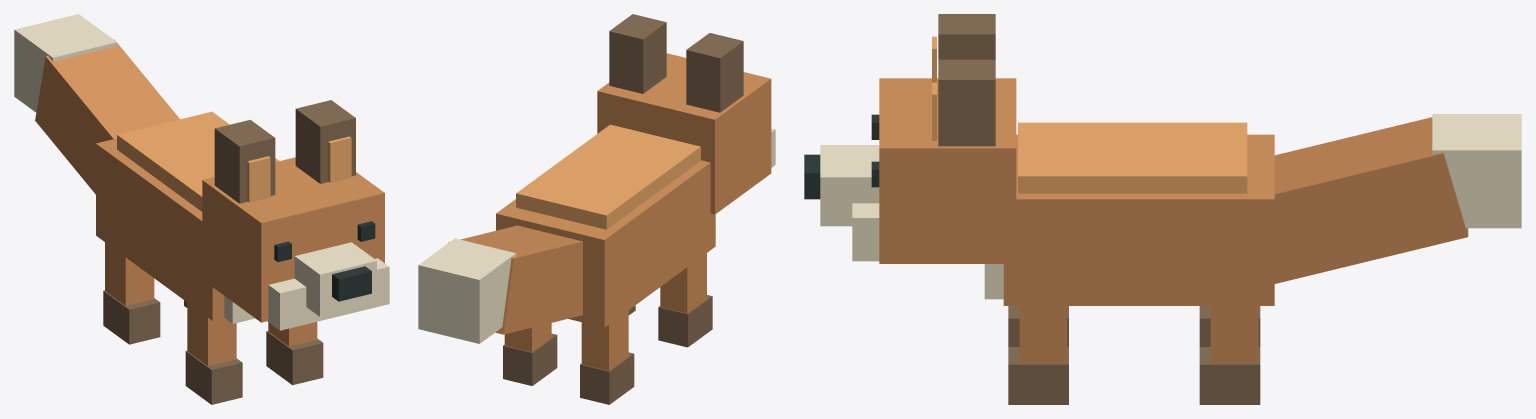
The model's file is fox.glb.
3 renders of one model, left to right at view 1: azimuth 30°, elevation 25°; view 2: azimuth 150°, elevation 25°; view 3: azimuth 270°, elevation 25°, orthographic. The views are drawn at different scales.
Visible parts, largest first — view 1: head.001, body, tail_base, back, tail_tip, snout, ear.002, ear.003, jaw, shin, sock.001, sock (+8 smaller); view 2: body, head.001, back, tail_tip, tail_base, ear.002, ear.003, shin.001, sock.001, sock, sock.003, shin (+1 smaller); view 3: body, tail_base, head.001, back, tail_tip, ear.003, snout, shin.002, shin.003, sock.003, sock.002, ear.002 (+3 smaller).
Part boxes in pixels (x1,y1,x2,y2): head.001: (202,157,384,322); body: (96,138,224,320); tail_base: (35,39,179,194); back: (117,111,279,211); tail_tip: (14,14,116,112); snout: (294,242,376,316); ear.002: (214,119,275,203); ear.003: (295,100,355,183); jaw: (267,258,389,330); shin: (187,303,236,366); sock.001: (103,290,160,344); sock: (185,351,242,404); body: (496,160,715,327); head.001: (597,53,771,214); back: (516,124,700,229); tail_tip: (418,238,515,343); tail_base: (448,225,582,334); ear.002: (686,33,743,112); ear.003: (609,14,666,93); shin.001: (581,310,628,370); sock.001: (580,352,634,404); sock: (658,295,712,347); sock.003: (503,333,557,385); shin: (660,253,706,313); body: (1003,134,1274,305); tail_base: (1274,117,1468,283); head.001: (879,78,1016,263); back: (1018,122,1247,193); tail_tip: (1432,114,1521,228); ear.003: (938,59,995,146); snout: (820,145,879,226); shin.002: (1019,306,1067,363); shin.003: (1210,306,1258,363); sock.003: (1199,347,1260,404); sock.002: (1008,347,1068,404); ear.002: (938,14,995,59).
Size of the model in its own units: 0.52 by 1.13 by 2.25.
